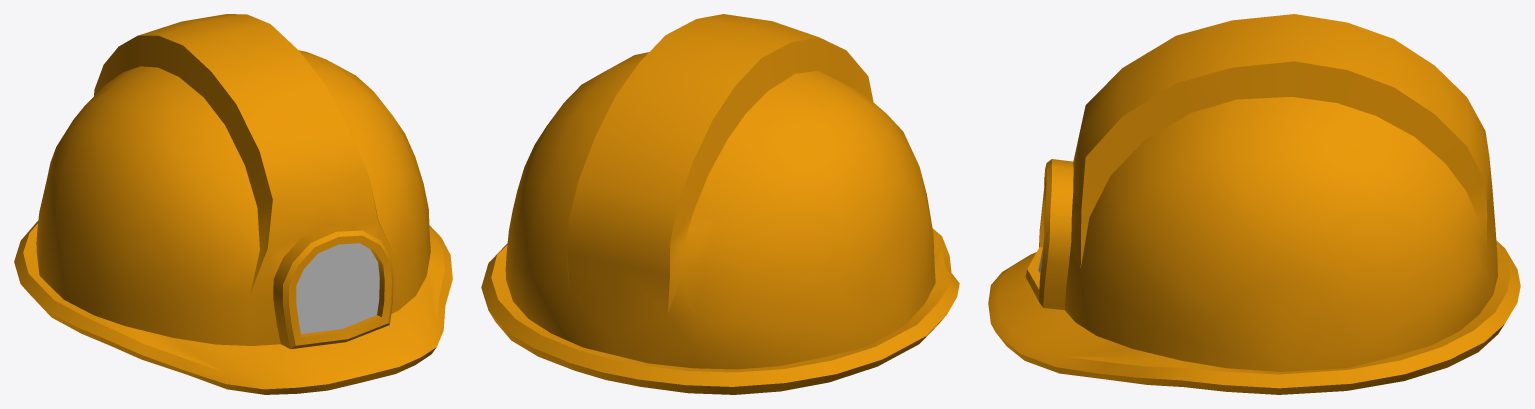
The model's file is Helmet_Standard_New.fbx.
3 renders of one model, left to right at view 1: azimuth 30°, elevation 25°; view 2: azimuth 150°, elevation 25°; view 3: azimuth 270°, elevation 25°, orthographic. The views are drawn at different scales.
Visible parts, largest first — view 1: Builder_Hat; view 2: Builder_Hat; view 3: Builder_Hat.
Boxes of the visible parts, <box> form: Builder_Hat: <box>14,14,452,394</box>; Builder_Hat: <box>481,14,959,394</box>; Builder_Hat: <box>988,14,1520,394</box>.
Size of the model in its own units: 39.89 by 25.63 by 43.93.
